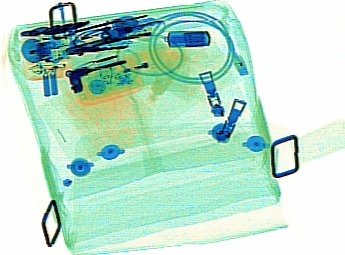lighter: (93, 42, 186, 90)
